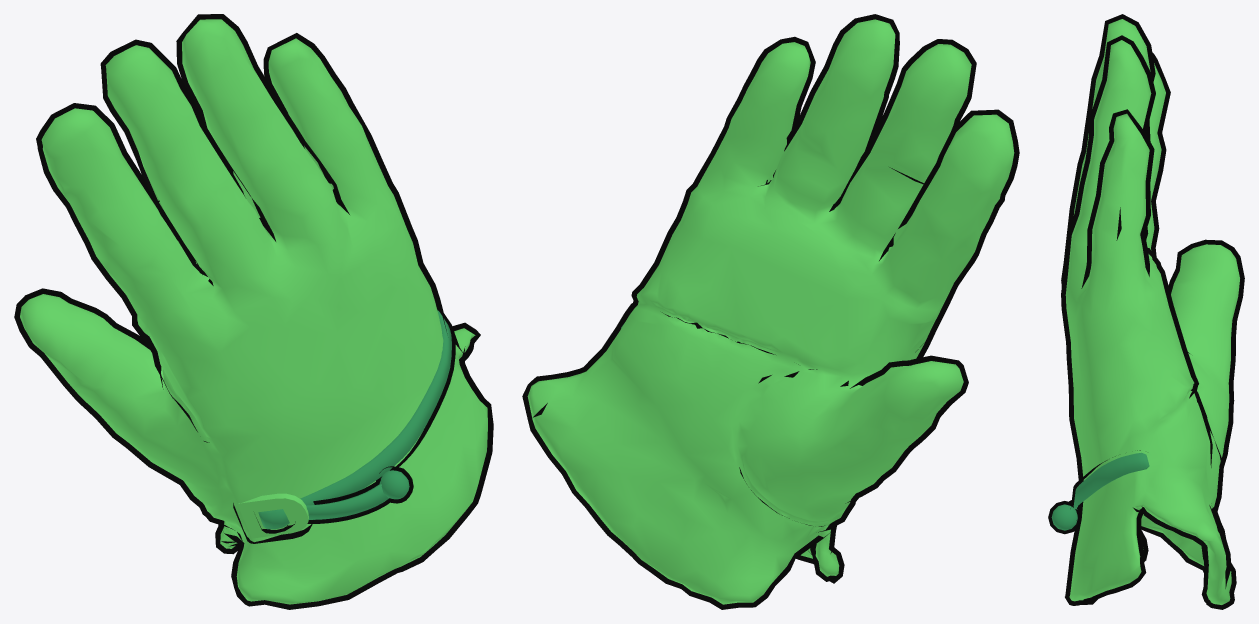
Rendered from work_02.glb.
The picture shows the model from 3 angles, left to right: view 1: azimuth 30°, elevation 25°; view 2: azimuth 150°, elevation 25°; view 3: azimuth 270°, elevation 25°; orthographic projection. The views are drawn at different scales.
Visible parts, largest first — view 1: hand, hand_outline, tie, tie_outline; view 2: hand, hand_outline; view 3: hand, hand_outline, tie, tie_outline.
Boxes of the visible parts, bbox=[...] form: hand: bbox=[20, 19, 487, 604]; hand_outline: bbox=[14, 14, 493, 609]; tie: bbox=[258, 310, 451, 529]; tie_outline: bbox=[256, 313, 455, 533]; hand: bbox=[527, 19, 1014, 604]; hand_outline: bbox=[522, 14, 1019, 609]; hand: bbox=[1065, 19, 1239, 604]; hand_outline: bbox=[1061, 14, 1244, 609]; tie: bbox=[1051, 452, 1149, 530]; tie_outline: bbox=[1048, 450, 1140, 534].
Bounding box in the file's own units: 1.07 × 1.29 × 0.4457.
